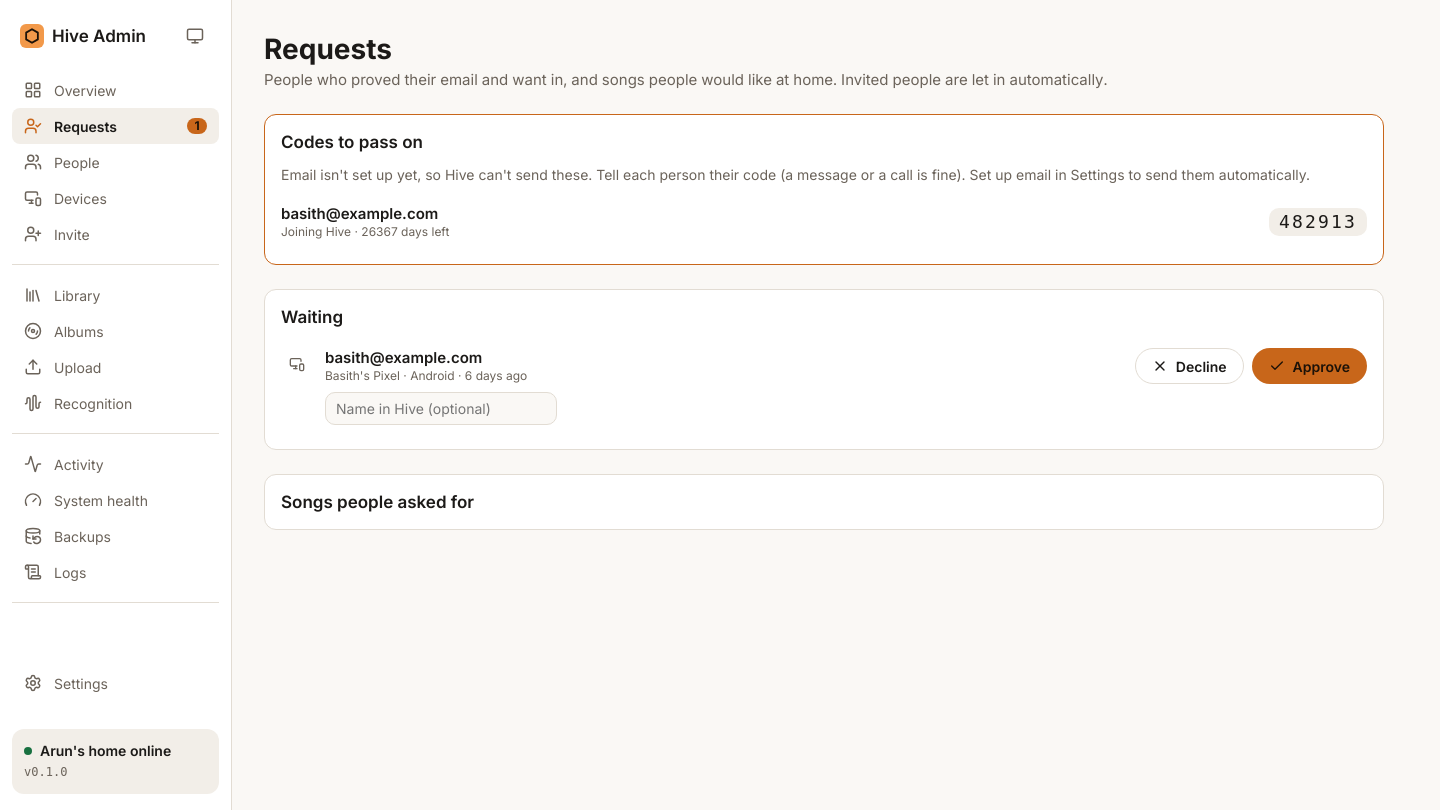
Scenario: Requests › lists who's waiting and codes to pass on, and approves
This screenshot has width=1440, height=810.
Expected: the text "482913" is shown, x1=1269 y1=208 x2=1367 y2=236
Expected: the text "Basith's Pixel · Android · 6 days ago" is shown, x1=325 y1=368 x2=527 y2=383
Click the button "Approve".
click(1309, 366)  # box x1=1252 y1=348 x2=1367 y2=384
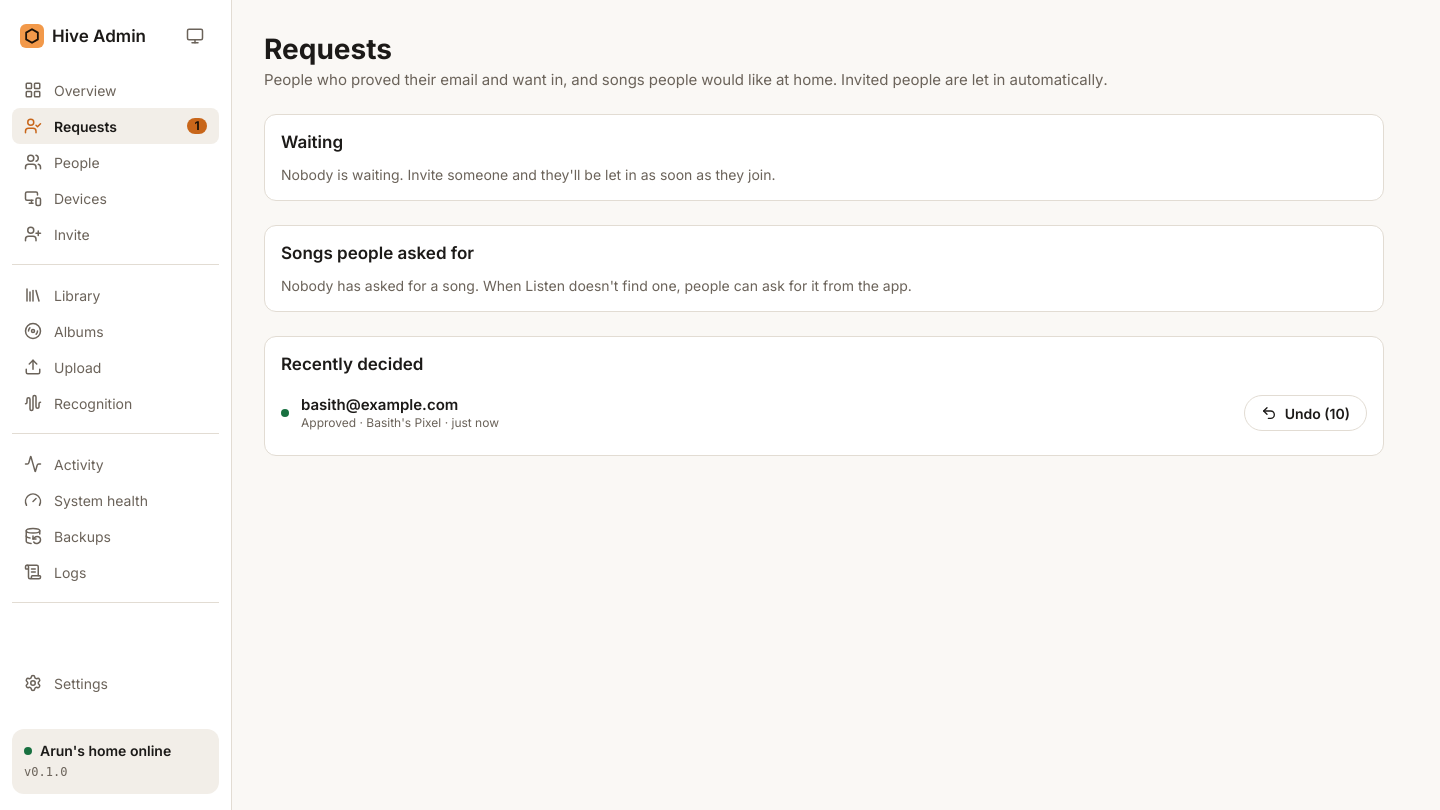
Expected: the button "Undo (10)" is shown, x1=1244 y1=395 x2=1367 y2=431
